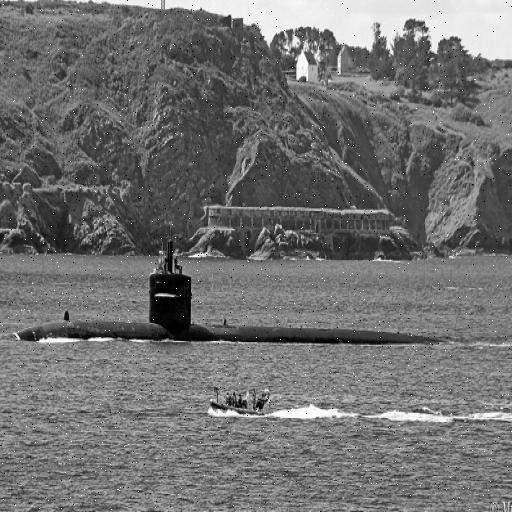submarine: (13, 233, 512, 343)
